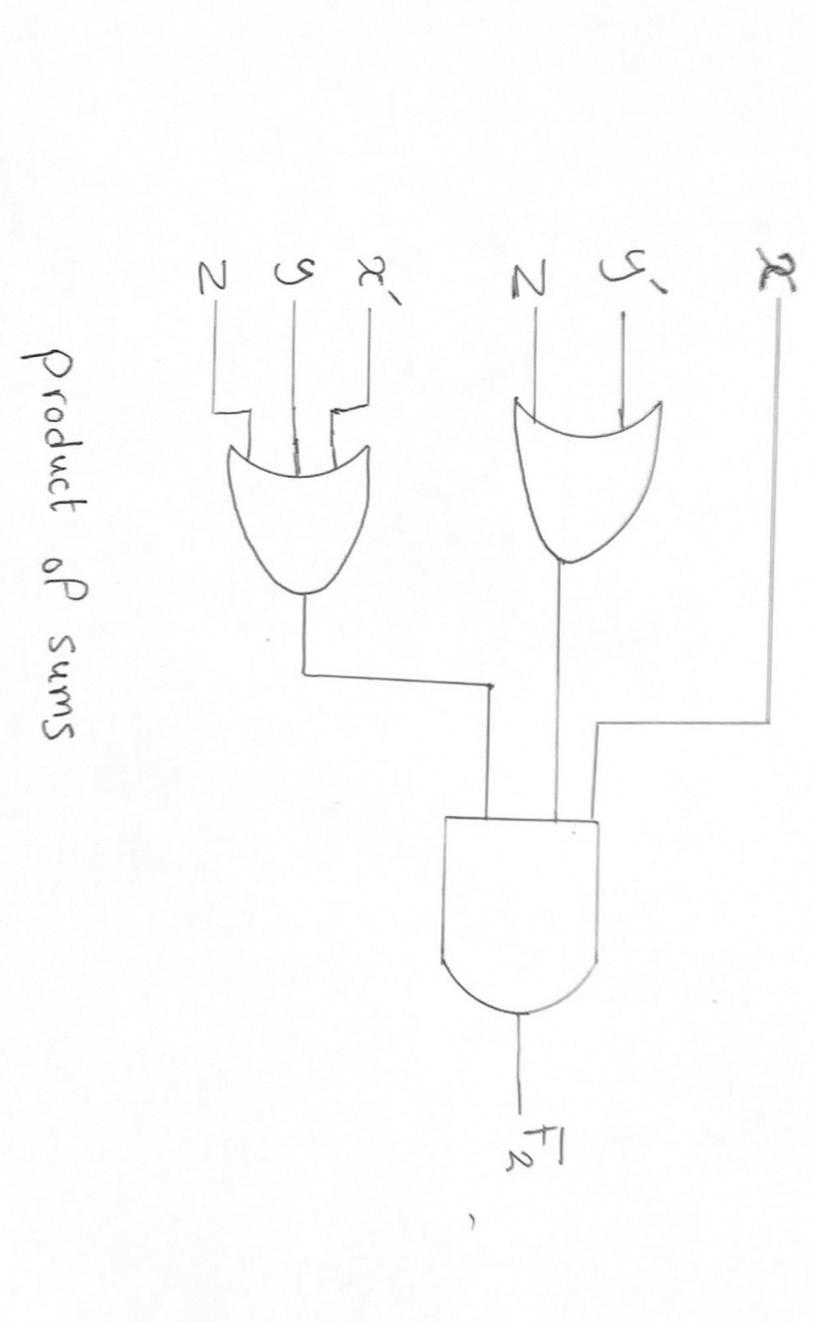OR: (408, 790, 647, 1035), (490, 375, 692, 577), (217, 430, 410, 605)
